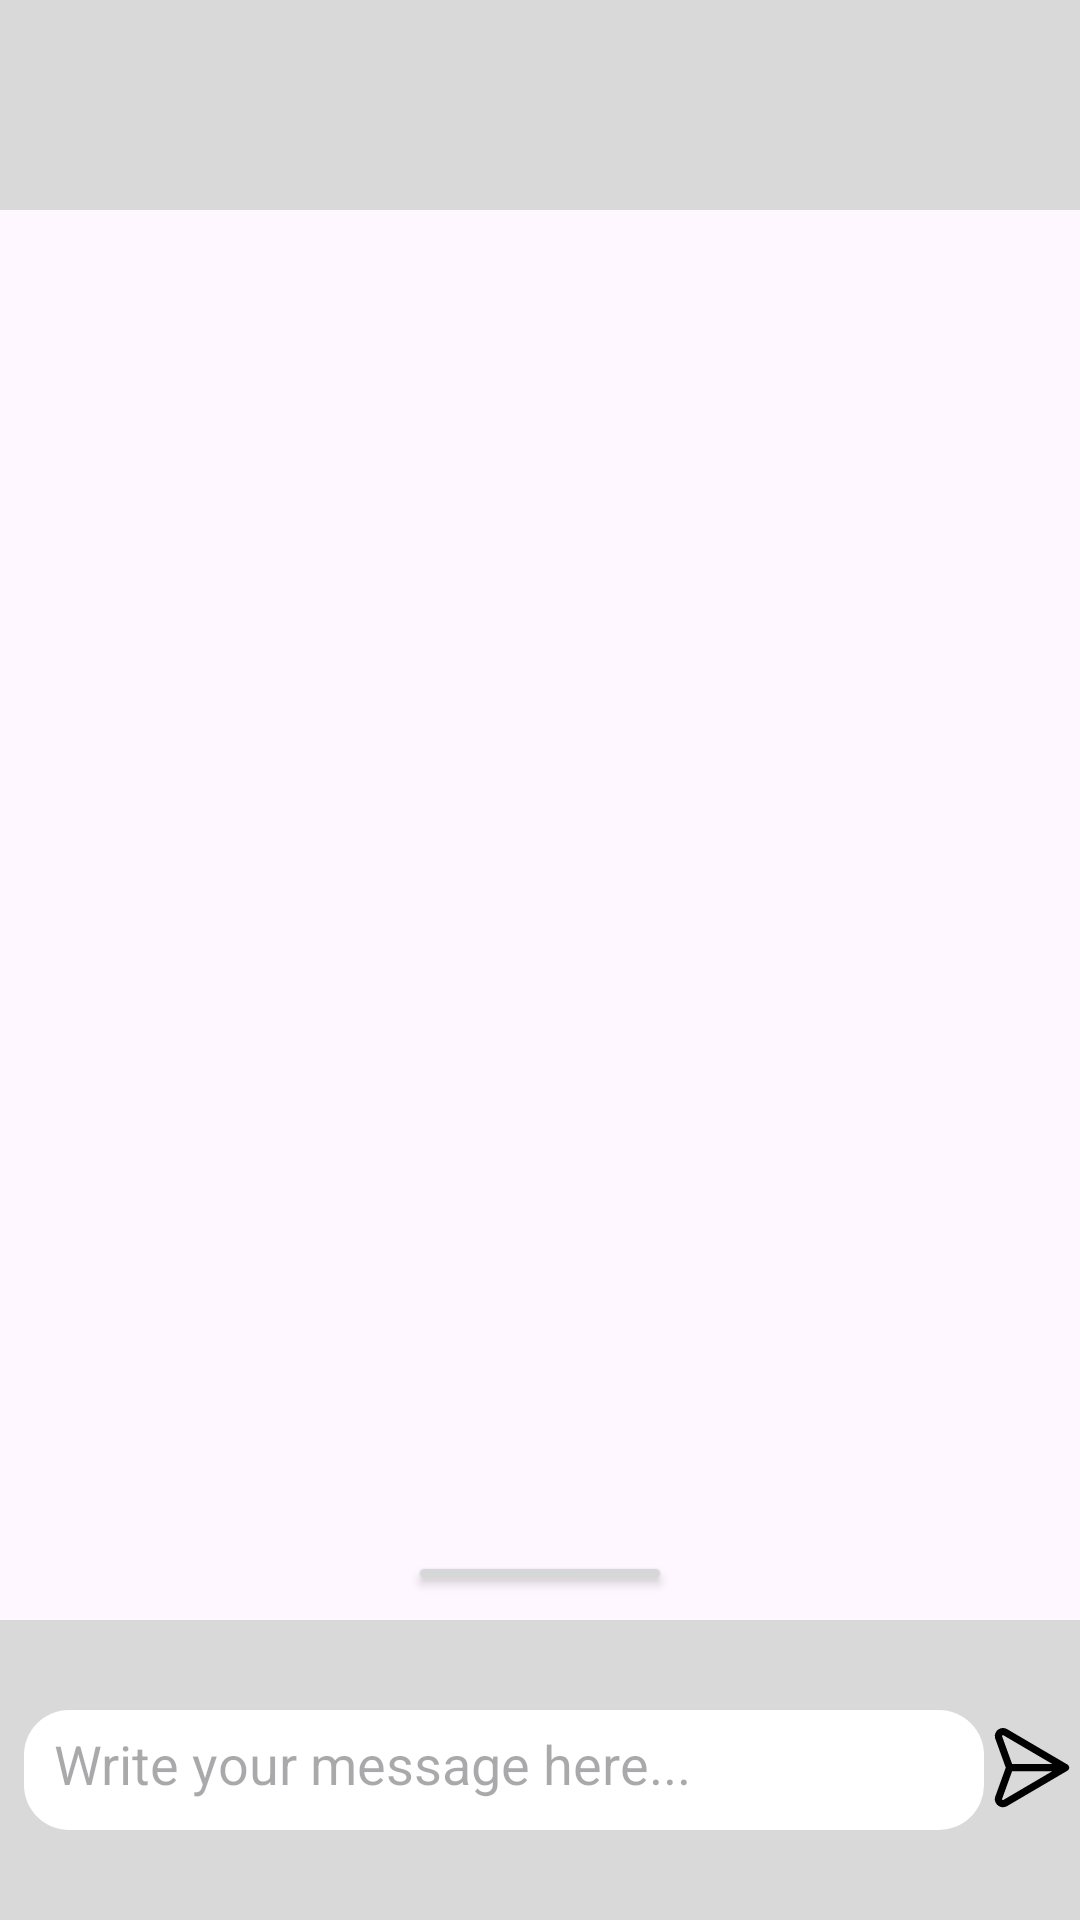

Locate icon controls on the screen. Image size 1080×1920, boxes as (x1, y1, x2, y2).
send: (994, 1728, 1070, 1808)
